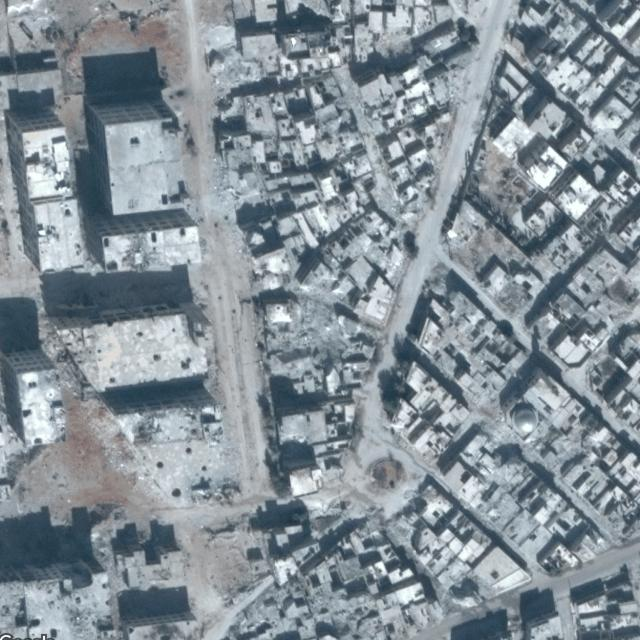damaged_building: (264, 255, 374, 382), (95, 380, 224, 448), (203, 134, 271, 228)
